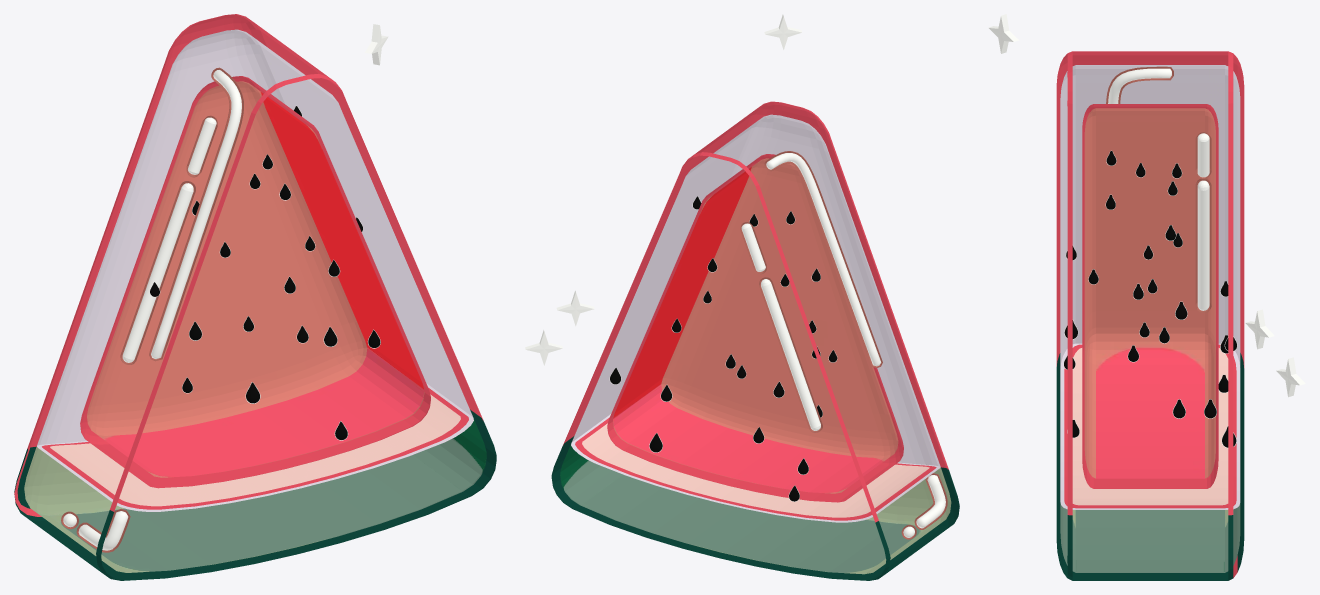
The model's file is watermelon-transformed.glb.
The picture shows the model from 3 angles, left to right: view 1: azimuth 30°, elevation 25°; view 2: azimuth 150°, elevation 25°; view 3: azimuth 270°, elevation 25°; orthographic projection. The views are drawn at different scales.
Parts seen in each view (by area): view 1: center-glass, base, base-glass, front-shine; view 2: center-glass, base, base-glass, front-shine; view 3: center-glass, base, base-glass, front-shine.
Boxes of the visible parts, x1,y1,x2,y2 form: center-glass: [87, 81, 424, 477]; base: [14, 14, 496, 580]; base-glass: [24, 419, 486, 572]; front-shine: [63, 24, 388, 550]; center-glass: [613, 158, 898, 493]; base: [551, 101, 959, 580]; base-glass: [560, 444, 951, 574]; front-shine: [525, 14, 945, 537]; center-glass: [1084, 108, 1215, 478]; base: [1056, 51, 1244, 580]; base-glass: [1060, 502, 1240, 572]; front-shine: [988, 14, 1305, 447].
Size of the model in its own units: 1.99 by 2.58 by 1.43.
4 materials, 4 textured.
